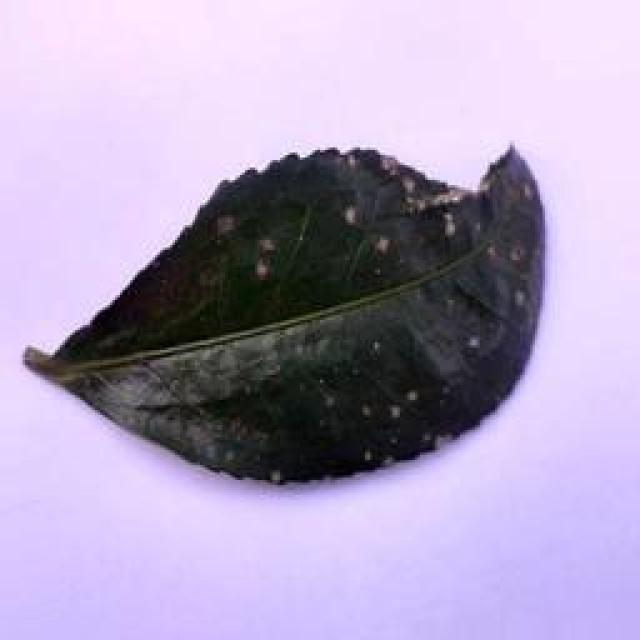Algal Leaf Spot: (34, 135, 554, 490)
